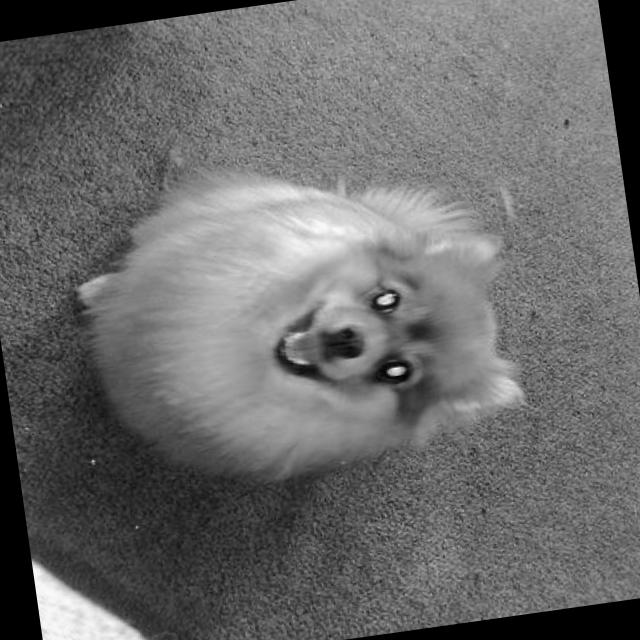sitting: (56, 127, 535, 513)
